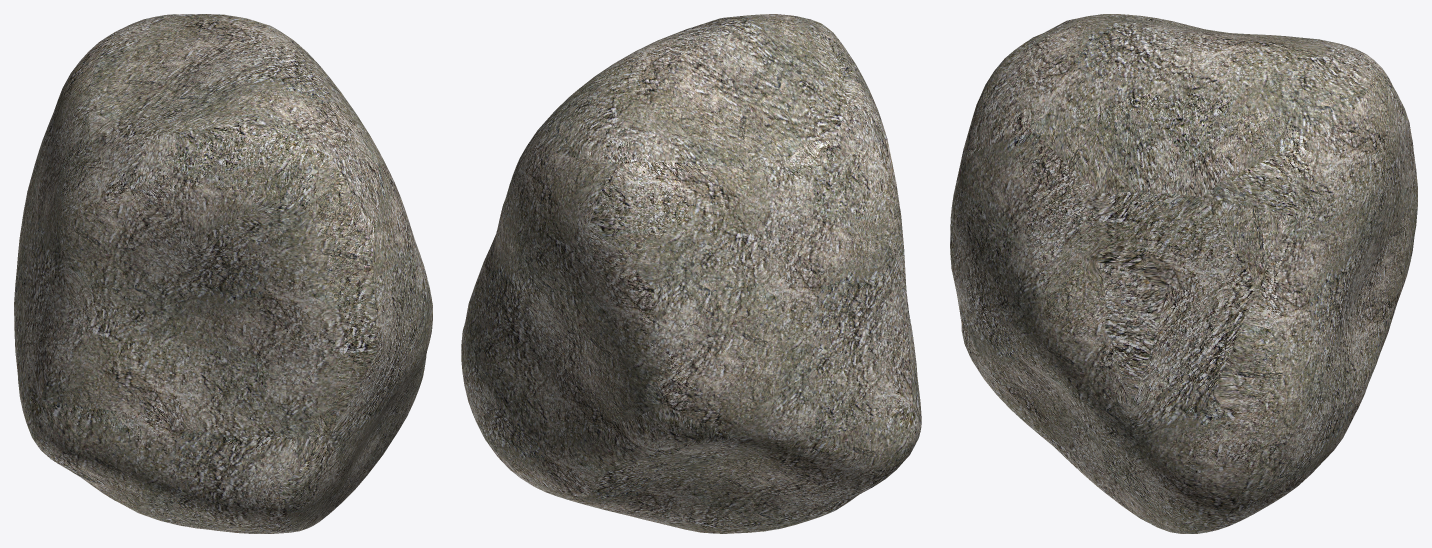
The model's file is boulder_1.dae.
The picture shows the model from 3 angles, left to right: view 1: azimuth 30°, elevation 25°; view 2: azimuth 150°, elevation 25°; view 3: azimuth 270°, elevation 25°; orthographic projection. The views are drawn at different scales.
Parts seen in each view (by area): view 1: boulder; view 2: boulder; view 3: boulder.
Boxes of the visible parts, left/top/right/bottom form: boulder: left=14, top=14, right=432, bottom=533; boulder: left=461, top=14, right=921, bottom=533; boulder: left=950, top=14, right=1417, bottom=533.
Size of the model in its own units: 1.86 by 1.94 by 2.14.
Materials: 1 (1 with a texture image).
